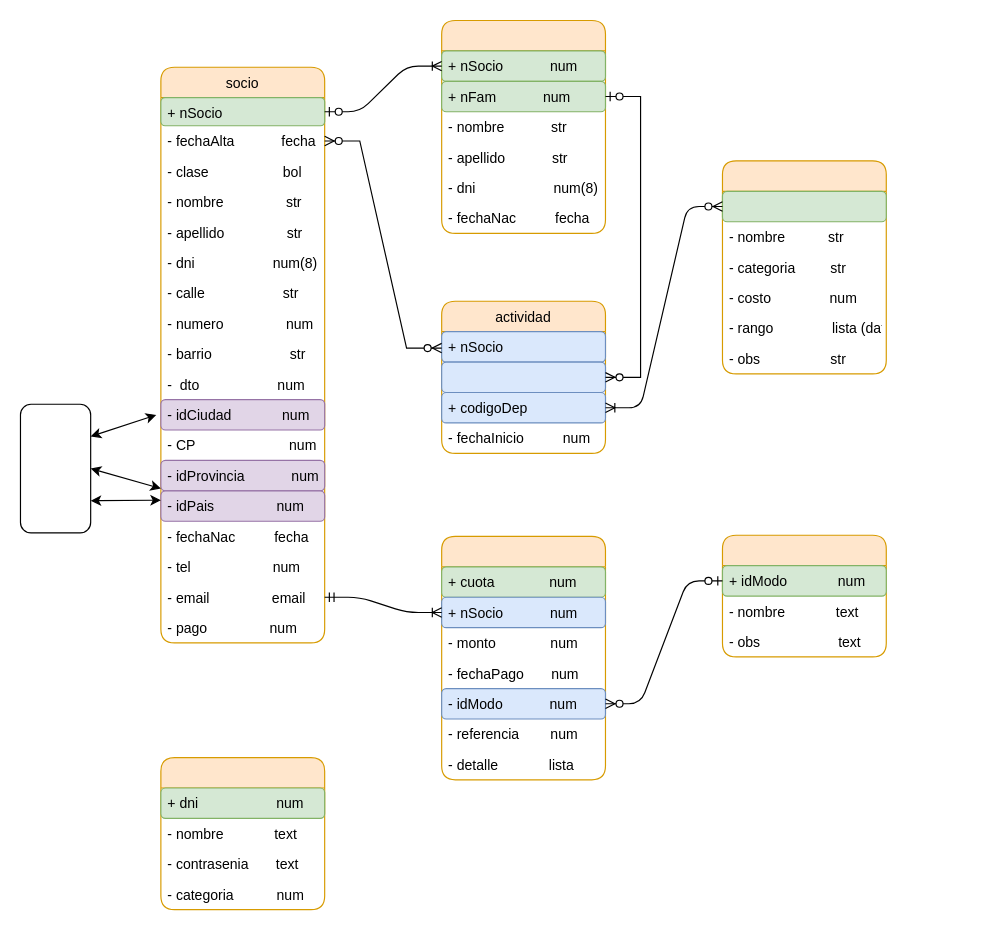
The diagram is 1003 pixels wide and 934 high, and some of its shapes have lost their labels. The box of each missing label's shape, as (x1, y1, x2, y2) in pixels:
+ codigoDep str: (721, 190, 886, 222)
+ nFam: (441, 361, 605, 393)
API /georef: (19, 403, 91, 533)
deportes: (721, 160, 886, 374)
facturacion: (441, 535, 605, 780)
familia: (441, 19, 605, 233)
modoPago: (721, 534, 886, 657)
usuario: (160, 756, 325, 910)
